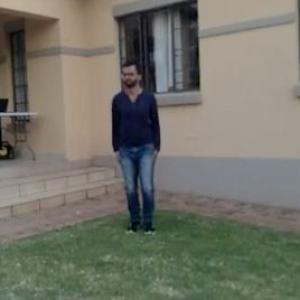follow: (105, 51, 163, 246)
